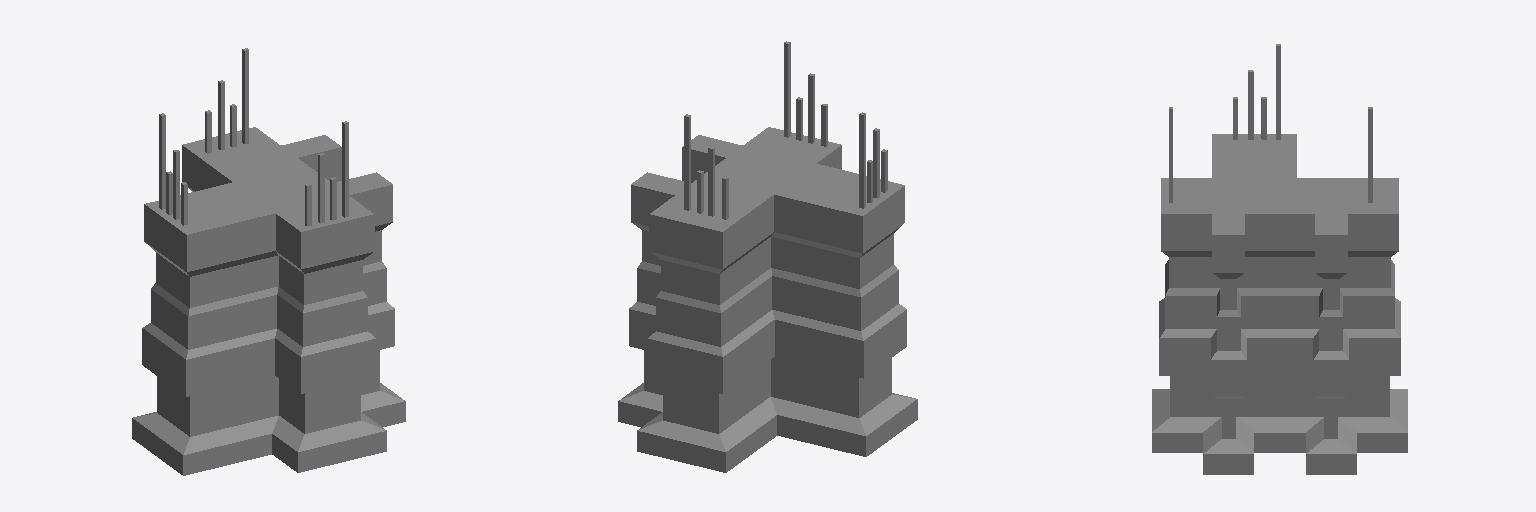
The model's file is building2.obj.
3 views of the same model, side by side, from view 1: azimuth 30°, elevation 25°; view 2: azimuth 150°, elevation 25°; view 3: azimuth 270°, elevation 25° (orthographic).
Visible parts, largest first — view 1: Line12, Box86, Box81, Box78; view 2: Line12, Box78, Box81, Box86; view 3: Line12.
Part boxes in pixels (x1,y1,x2,y2): Line12: (132, 127, 405, 475); Box86: (159, 113, 165, 209); Box81: (342, 121, 348, 217); Box78: (242, 48, 248, 143); Line12: (618, 127, 917, 472); Box78: (684, 114, 690, 210); Box81: (784, 41, 790, 137); Box86: (859, 112, 865, 208); Line12: (1152, 134, 1407, 474).
Bounding box in the file's own units: 50 × 70.88 × 50.